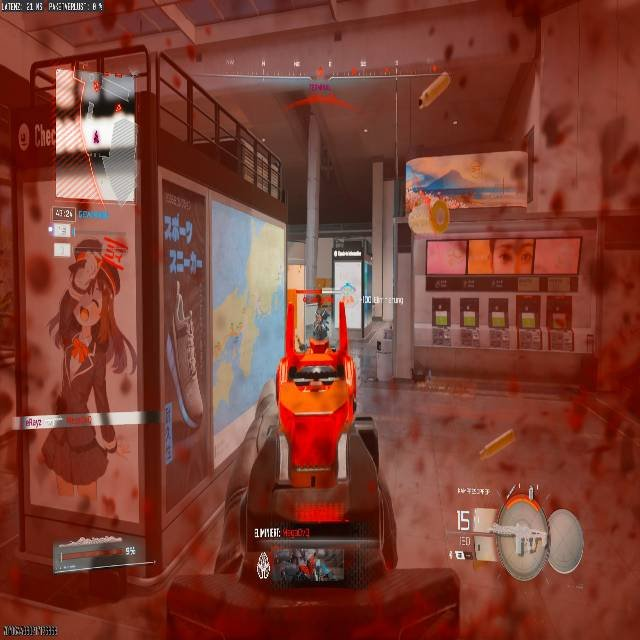head: (74, 238, 102, 264), (370, 314, 384, 324)
player: (38, 236, 134, 514), (362, 314, 389, 351), (312, 308, 331, 340)
